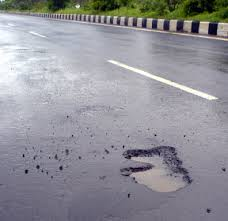pothole: (104, 136, 205, 203)
